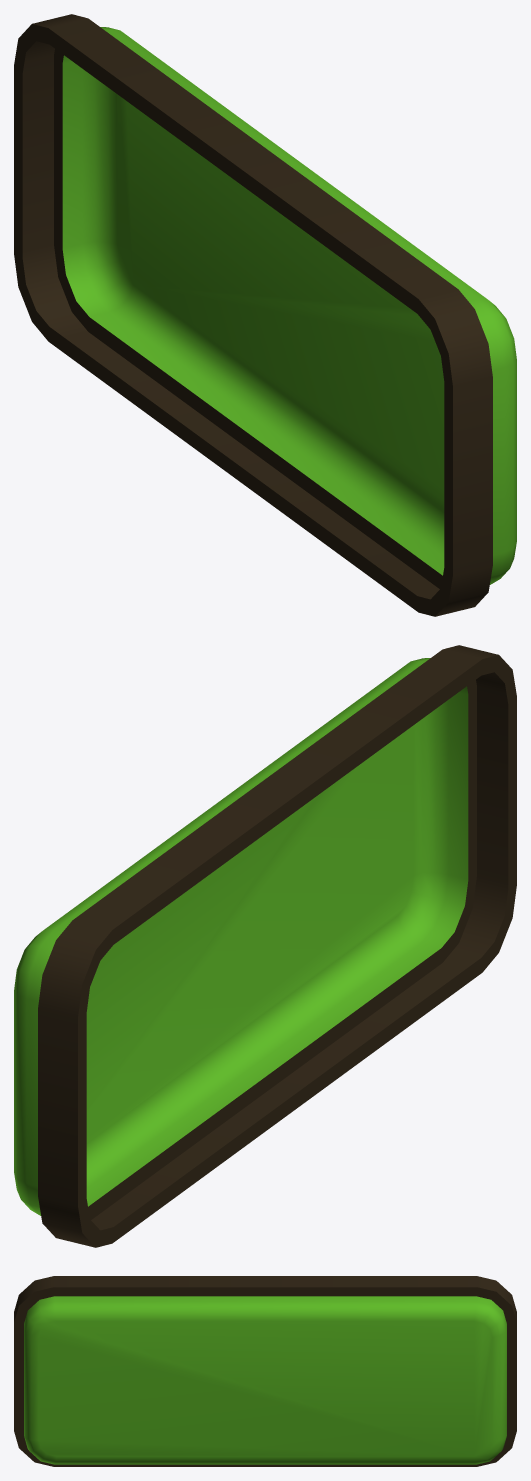
Rendered from Button_Green_On.fbx.
3 renders of one model, top to bottom at view 1: azimuth 30°, elevation 25°; view 2: azimuth 150°, elevation 25°; view 3: azimuth 270°, elevation 25°, orthographic. The views are drawn at different scales.
Visible parts, largest first — view 1: Button_Green_On; view 2: Button_Green_On; view 3: Button_Green_On.
Part boxes in pixels (x1,y1,x2,y2): Button_Green_On: (14,14,516,616); Button_Green_On: (14,645,516,1247); Button_Green_On: (14,1276,516,1466).
Size of the model in its own units: 0.9302 by 3.4 by 8.63.
Materials: 1 (1 with a texture image).
